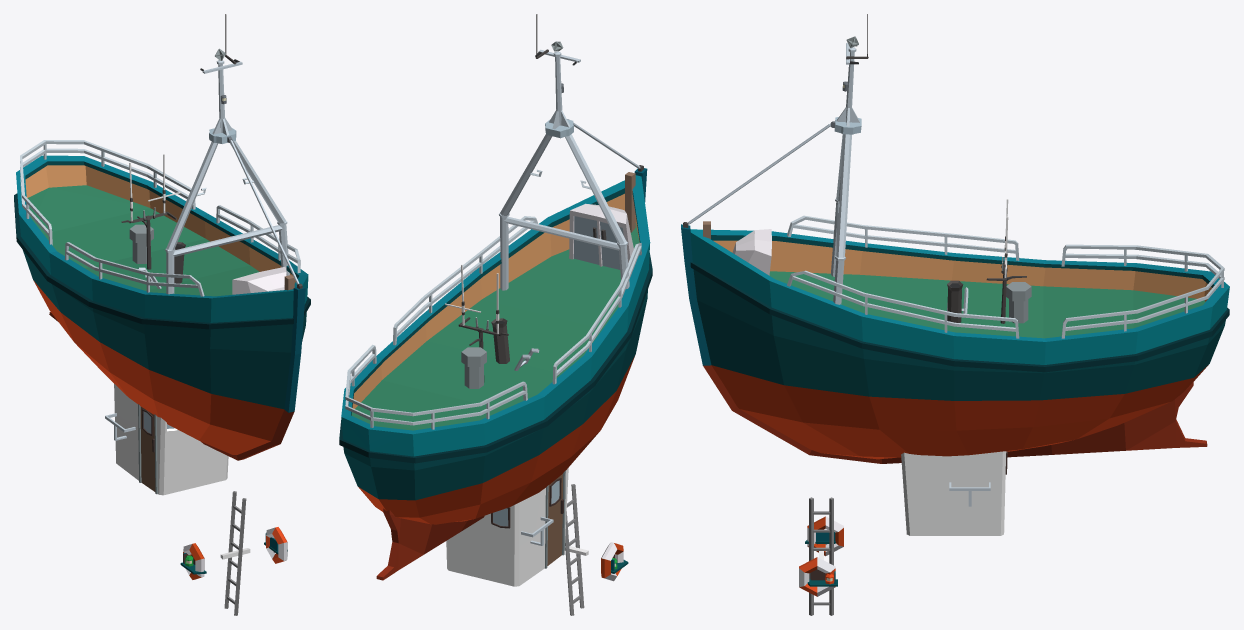
Rendered from fishing-boat.glb.
The picture shows the model from 3 angles, left to right: view 1: azimuth 30°, elevation 25°; view 2: azimuth 150°, elevation 25°; view 3: azimuth 270°, elevation 25°; orthographic projection. The views are drawn at different scales.
Visible parts, largest first — view 1: FB Medium Hull, FB M1 Cabin, Ladder, Lifetorus; view 2: FB Medium Hull, FB M1 Cabin, Ladder, Exhaust, Lifetorus; view 3: FB Medium Hull, FB M1 Cabin, Lifetorus, Ladder.
Boxes of the visible parts, box(x1,y1,x2,y2) form: FB Medium Hull: box(14, 14, 310, 460); FB M1 Cabin: box(105, 154, 228, 495); Ladder: box(224, 491, 246, 615); Lifetorus: box(183, 527, 287, 579); FB Medium Hull: box(339, 14, 652, 580); FB M1 Cabin: box(445, 264, 568, 586); Ladder: box(565, 484, 584, 615); Exhaust: box(491, 318, 509, 363); Lifetorus: box(601, 542, 623, 581); FB Medium Hull: box(681, 14, 1229, 463); FB M1 Cabin: box(901, 199, 1026, 535); Lifetorus: box(799, 516, 843, 596); Ladder: box(809, 497, 833, 615).
Bounding box in the file's own units: 2.29 × 7.6 × 6.21.
Materials: 2 (2 with a texture image).
